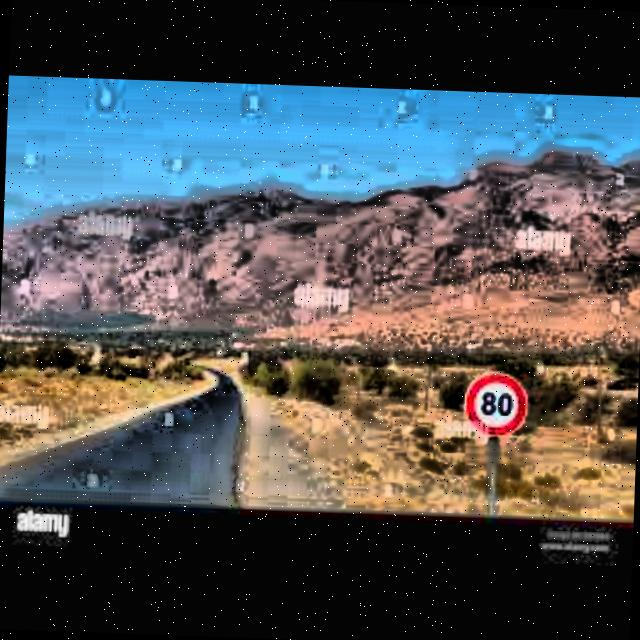speed_80: (463, 371, 529, 437)
